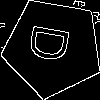D: (28, 22, 79, 66)
